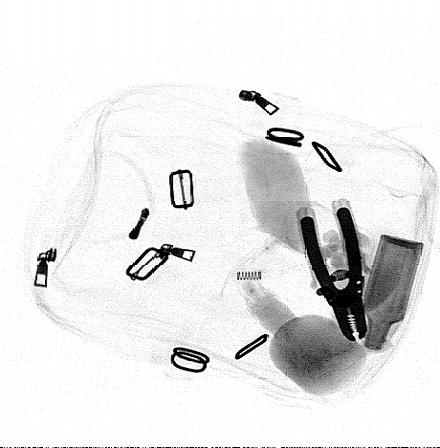Pliers: (300, 206, 368, 340)
